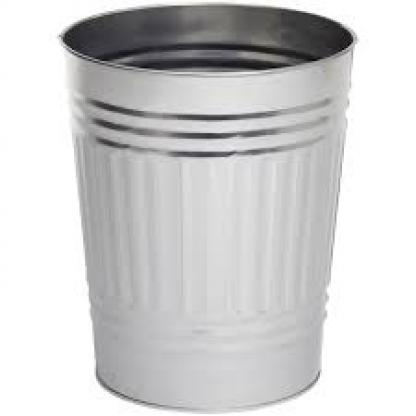METAL: (57, 2, 353, 408)
